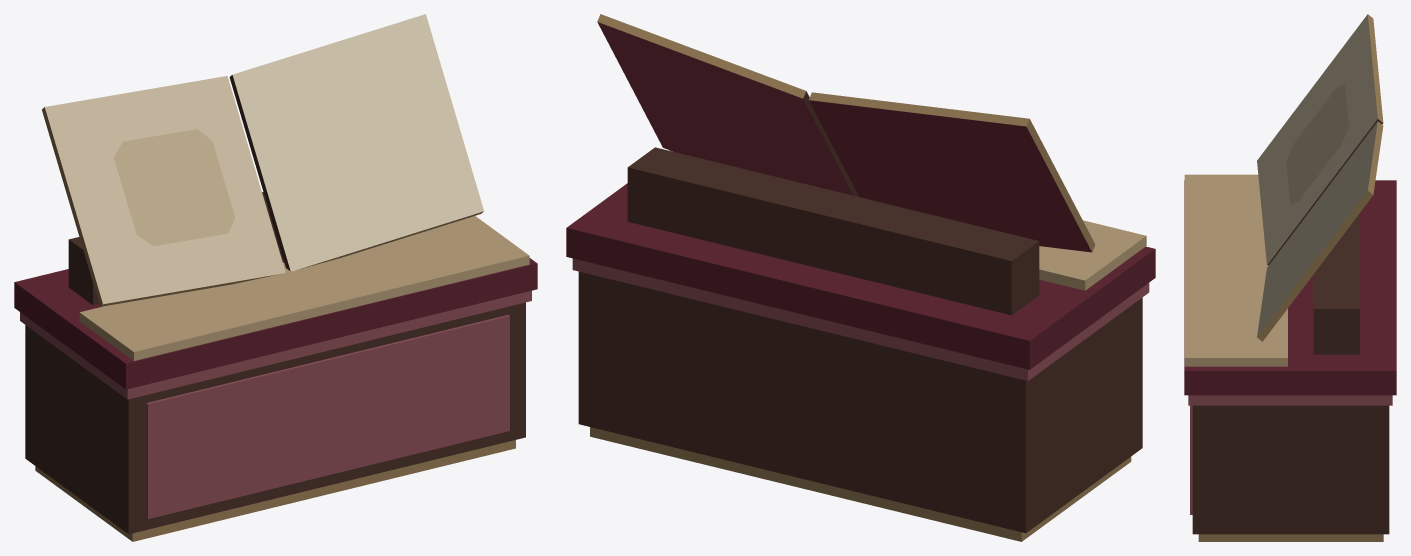
File: s04-patch-folio-low.glb
The picture shows the model from 3 angles, left to right: view 1: azimuth 30°, elevation 25°; view 2: azimuth 150°, elevation 25°; view 3: azimuth 270°, elevation 25°; orthographic projection. The views are drawn at different scales.
Visible parts, largest first — view 1: Open patch folio; view 2: Open patch folio; view 3: Open patch folio.
Boxes of the visible parts, box(x1,y1,x2,y2) form: Open patch folio: box(14, 14, 537, 541); Open patch folio: box(566, 14, 1155, 541); Open patch folio: box(1184, 14, 1396, 541).
Bounding box in the file's own units: 2.34 × 2.01 × 1.1.
